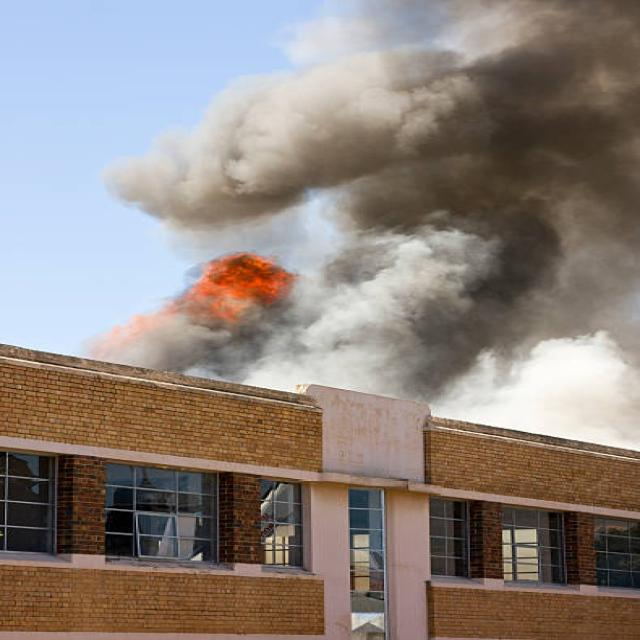Fire: (176, 247, 299, 341)
Smoke: (363, 10, 640, 402), (203, 103, 562, 380)
